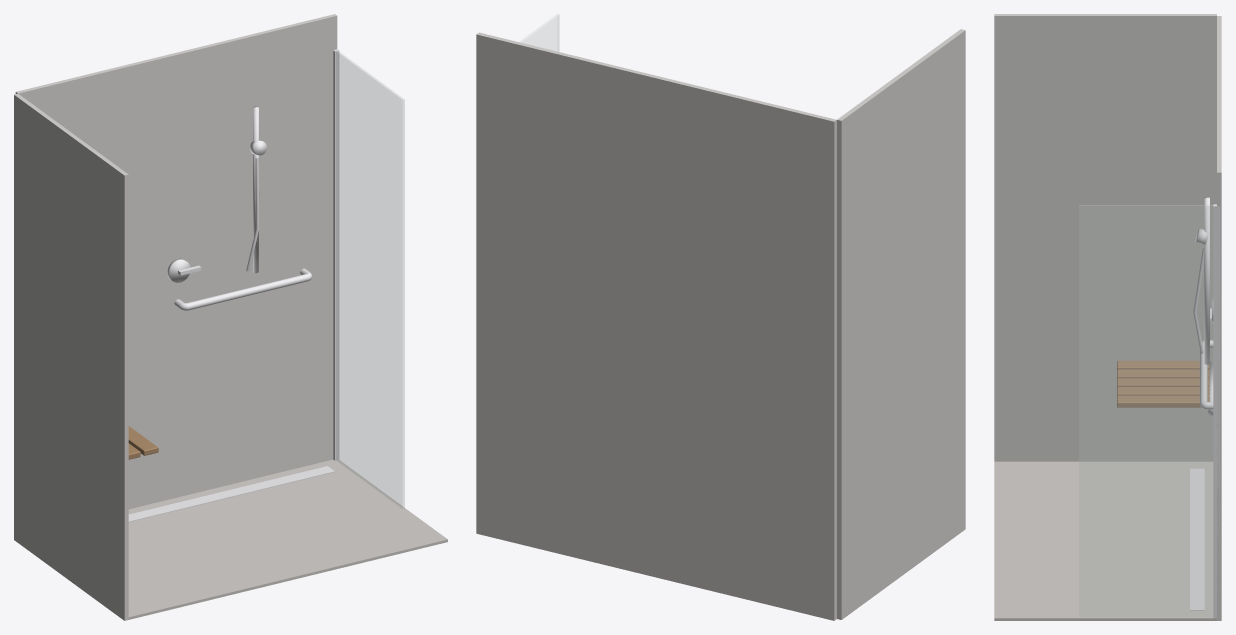
The model's file is walk_in_shower.glb.
3 renders of one model, left to right at view 1: azimuth 30°, elevation 25°; view 2: azimuth 150°, elevation 25°; view 3: azimuth 270°, elevation 25°, orthographic. The views are drawn at different scales.
Visible parts, largest first — view 1: walk_in_shower; view 2: walk_in_shower; view 3: walk_in_shower.
Boxes of the visible parts, x1,y1,x2,y2 form: walk_in_shower: [14, 14, 447, 620]; walk_in_shower: [476, 14, 965, 620]; walk_in_shower: [994, 14, 1221, 620].
Bounding box in the file's own units: 1.54 × 2.03 × 0.9344.
